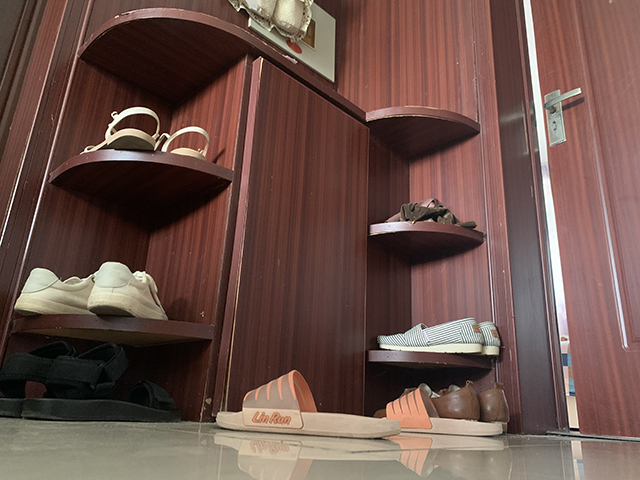cabinet: (1, 60, 371, 424)
slippers: (214, 367, 505, 441)
